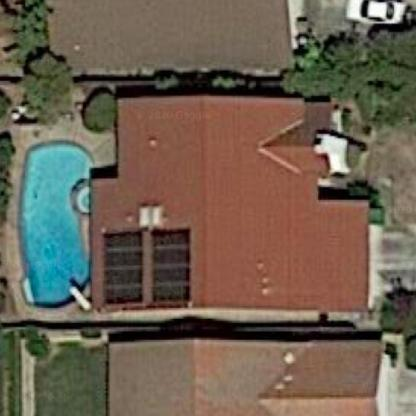car: (339, 3, 411, 30)
solar_panel: (144, 220, 205, 315), (92, 221, 149, 309)
swimming_pool: (4, 125, 97, 319)
